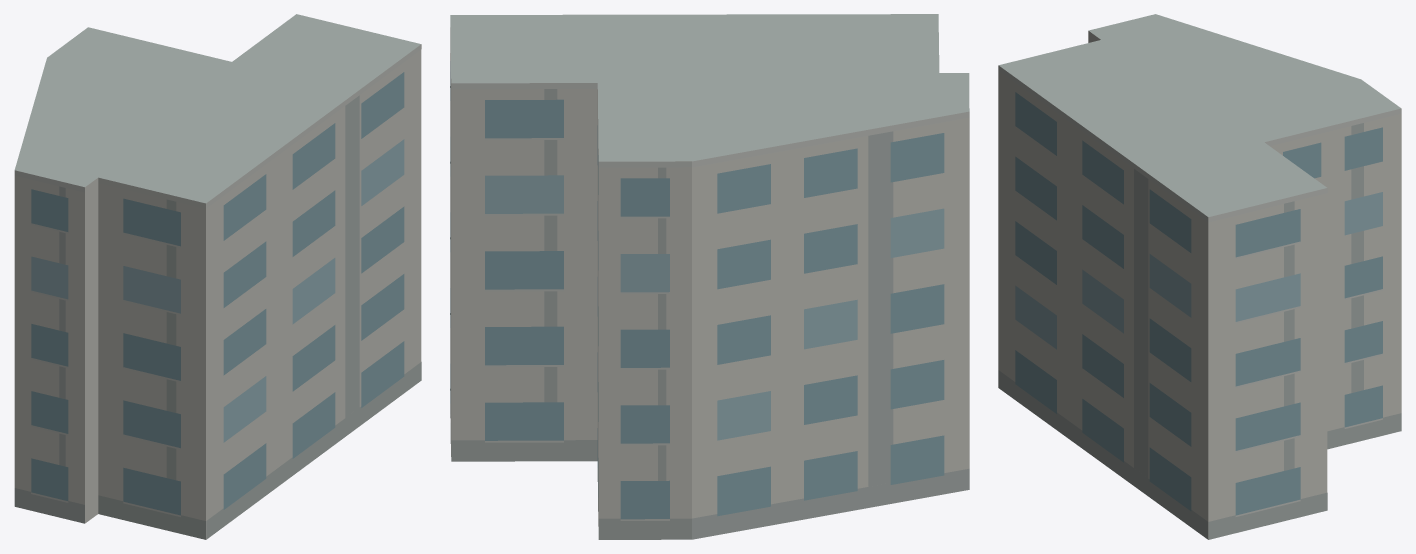
Rendered from residential-0aaaa5ec-5a48-4fb9-bff4-5cdd2463ca86.glb.
3 renders of one model, left to right at view 1: azimuth 30°, elevation 25°; view 2: azimuth 150°, elevation 25°; view 3: azimuth 270°, elevation 25°, orthographic. The views are drawn at different scales.
Visible parts, largest first — view 1: residential-0aaaa5ec-5a48-4fb9-bff4-5cdd2463ca86.tmp; view 2: residential-0aaaa5ec-5a48-4fb9-bff4-5cdd2463ca86.tmp; view 3: residential-0aaaa5ec-5a48-4fb9-bff4-5cdd2463ca86.tmp.
Boxes of the visible parts, x1,y1,x2,y2 form: residential-0aaaa5ec-5a48-4fb9-bff4-5cdd2463ca86.tmp: [14, 14, 421, 539]; residential-0aaaa5ec-5a48-4fb9-bff4-5cdd2463ca86.tmp: [450, 14, 969, 539]; residential-0aaaa5ec-5a48-4fb9-bff4-5cdd2463ca86.tmp: [998, 14, 1401, 539].
Size of the model in its own units: 20.61 by 15.25 by 17.28.
